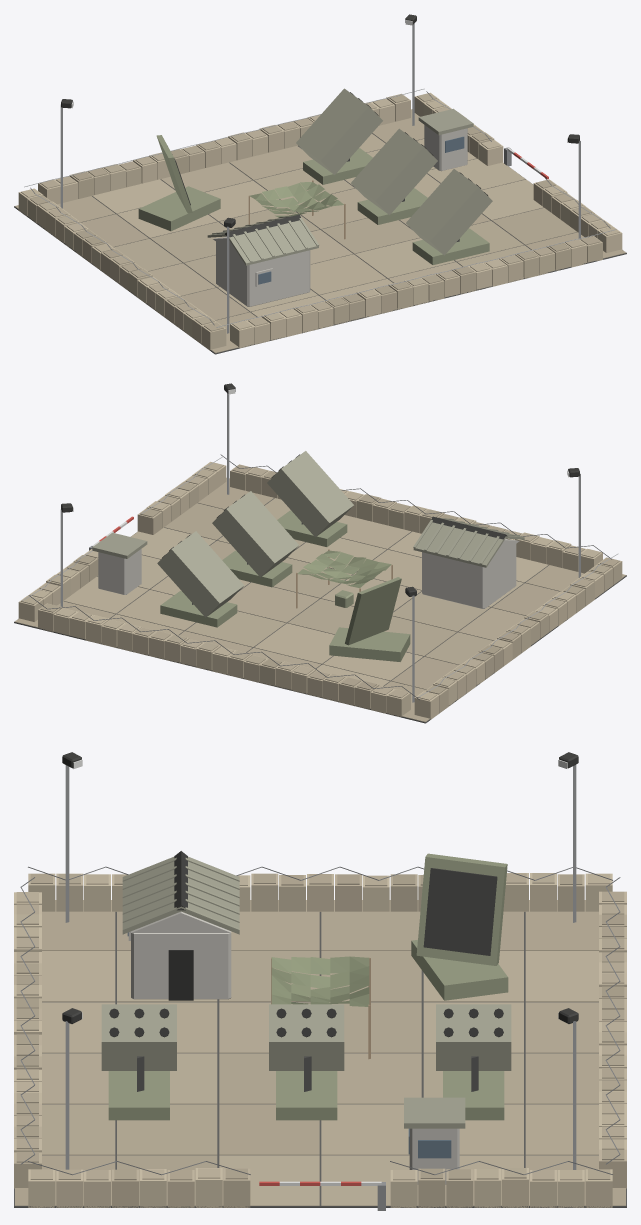
Rendered from b_domesite.glb.
The picture shows the model from 3 angles, top to bottom: view 1: azimuth 30°, elevation 25°; view 2: azimuth 150°, elevation 25°; view 3: azimuth 270°, elevation 25°; orthographic projection. The views are drawn at different scales.
Visible parts, largest first — view 1: hull; view 2: hull; view 3: hull.
Boxes of the visible parts, bbox=[...] form: hull: bbox=[14, 14, 626, 354]; hull: bbox=[14, 383, 626, 723]; hull: bbox=[14, 752, 626, 1210].
Size of the model in its own units: 26.25 by 6.78 by 22.
